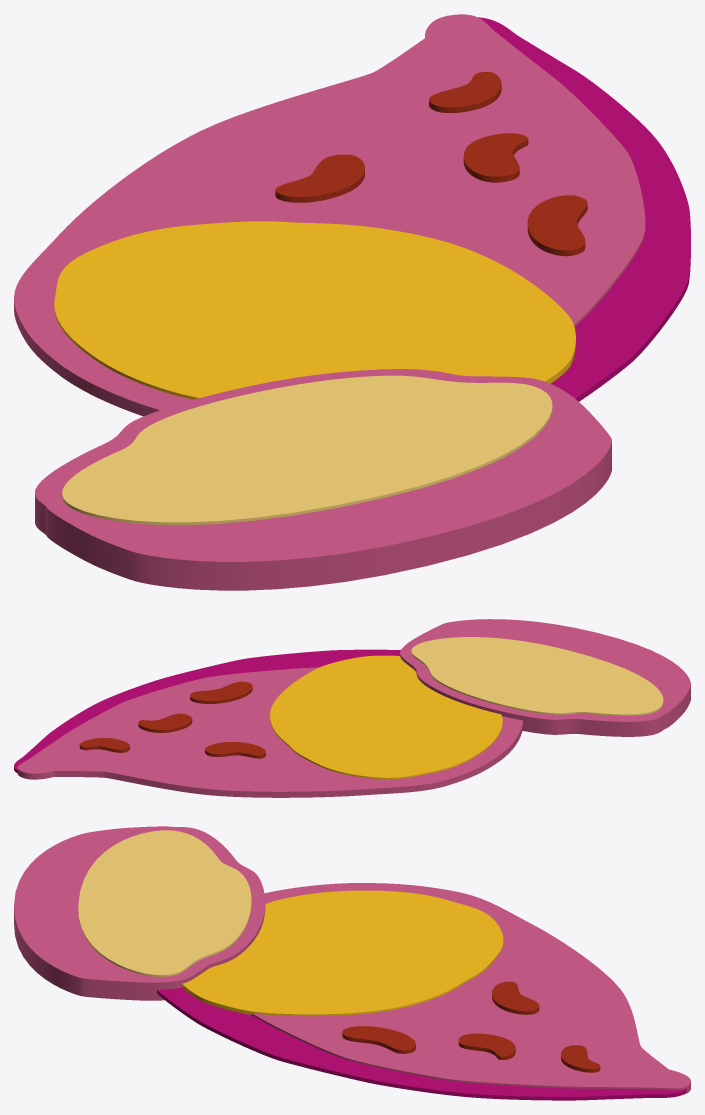
Rendered from emoji_u1f360.glb.
3 renders of one model, top to bottom at view 1: azimuth 30°, elevation 25°; view 2: azimuth 150°, elevation 25°; view 3: azimuth 270°, elevation 25°, orthographic. The views are drawn at different scales.
Visible parts, largest first — view 1: emoji_u1f360; view 2: emoji_u1f360; view 3: emoji_u1f360.
Boxes of the visible parts, x1,y1,x2,y2 form: emoji_u1f360: [14, 14, 690, 590]; emoji_u1f360: [14, 619, 690, 797]; emoji_u1f360: [14, 826, 690, 1100].
Size of the model in its own units: 0.0313 by 0.0012 by 0.034.
